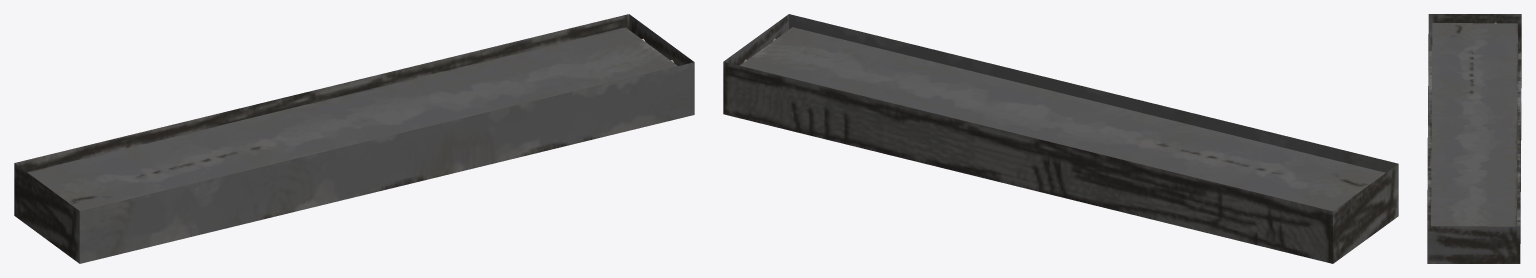
Rendered from lamp3.fbx.
3 renders of one model, left to right at view 1: azimuth 30°, elevation 25°; view 2: azimuth 150°, elevation 25°; view 3: azimuth 270°, elevation 25°, orthographic. The views are drawn at different scales.
Visible parts, largest first — view 1: Window.008; view 2: Window.008; view 3: Window.008.
Part boxes in pixels (x1,y1,x2,y2): Window.008: (14, 14, 694, 263); Window.008: (723, 14, 1398, 263); Window.008: (1427, 14, 1521, 263).
Bounding box in the file's own units: 143 × 11.72 × 26.79.
